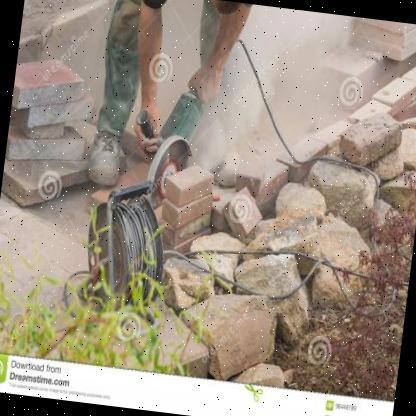bota: (82, 124, 130, 191)
